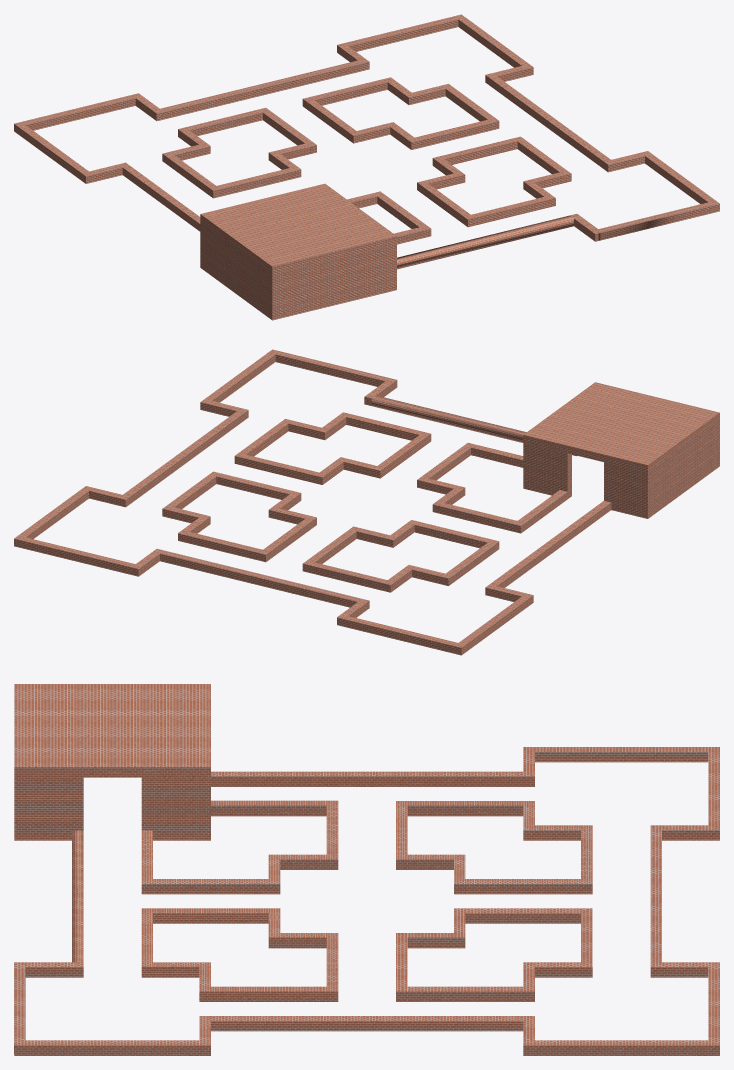
File: maze.obj
The picture shows the model from 3 angles, top to bottom: view 1: azimuth 30°, elevation 25°; view 2: azimuth 150°, elevation 25°; view 3: azimuth 270°, elevation 25°; orthographic projection. The views are drawn at different scales.
Parts seen in each view (by area): view 1: Cube.002_Cube.002; view 2: Cube.002_Cube.002; view 3: Cube.002_Cube.002.
Part boxes in pixels (x1,y1,x2,y2): Cube.002_Cube.002: (14, 14, 719, 320); Cube.002_Cube.002: (14, 349, 719, 655); Cube.002_Cube.002: (14, 684, 719, 1055).
Size of the model in its own units: 61 by 7 by 61.02.
